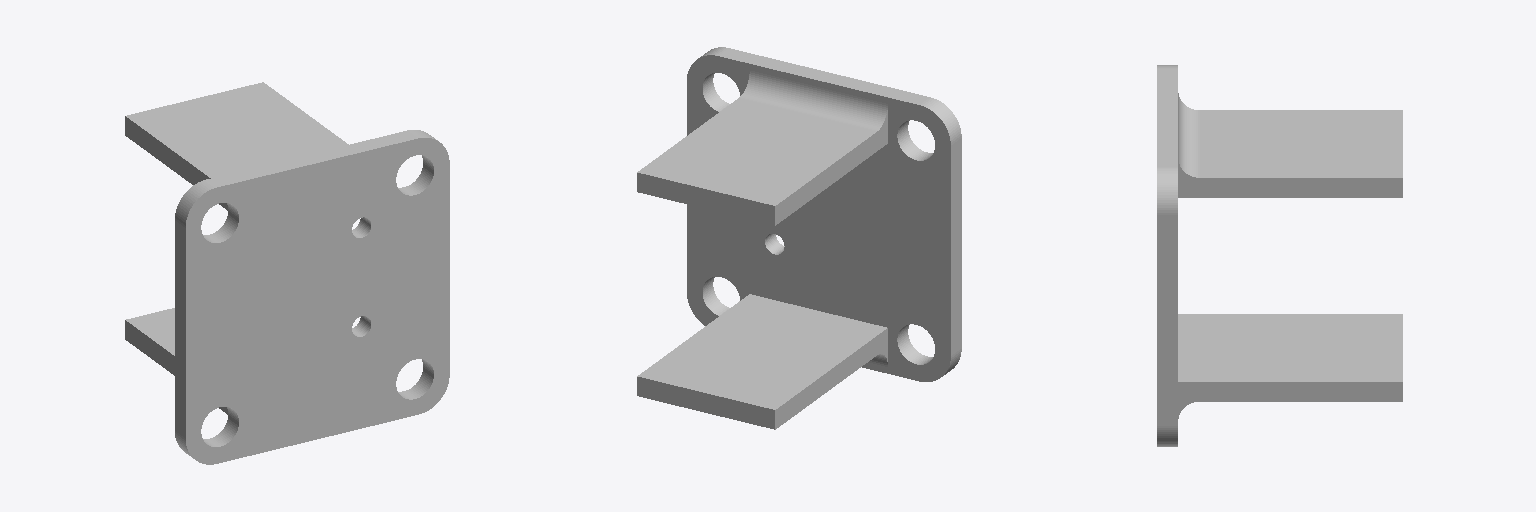
File: EndstopMountCover.obj
The picture shows the model from 3 angles: view 1: azimuth 30°, elevation 25°; view 2: azimuth 150°, elevation 25°; view 3: azimuth 270°, elevation 25°; orthographic projection.
Visible parts, largest first — view 1: Body1; view 2: Body1; view 3: Body1.
Boxes of the visible parts, <box> form: Body1: <box>125,82,449,464</box>; Body1: <box>637,47,961,429</box>; Body1: <box>1157,65,1402,446</box>.
Bounding box in the file's own units: 42 × 42 × 34.